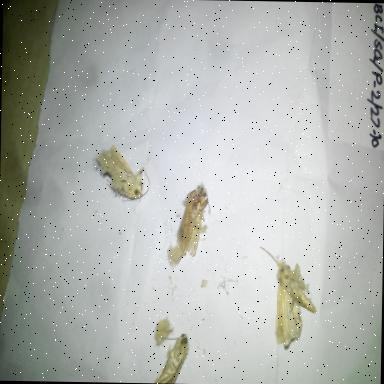abw: (255, 243, 320, 352), (87, 142, 156, 206), (173, 178, 214, 262), (152, 330, 192, 383)
